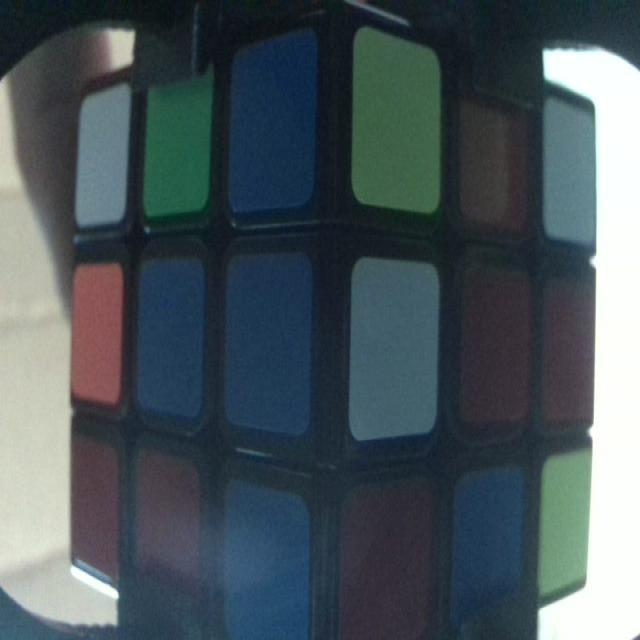b: (228, 268, 302, 424), (228, 492, 303, 628), (235, 66, 310, 183), (141, 268, 199, 401), (458, 484, 520, 602)
g: (148, 96, 204, 199)
o: (71, 268, 119, 388)
r: (344, 502, 424, 638), (468, 279, 523, 408), (138, 474, 197, 591), (544, 276, 588, 410), (472, 107, 524, 206), (70, 456, 118, 560)
w: (354, 269, 437, 421), (545, 102, 590, 236), (82, 105, 122, 205)
y: (359, 51, 437, 187), (542, 453, 592, 577)
